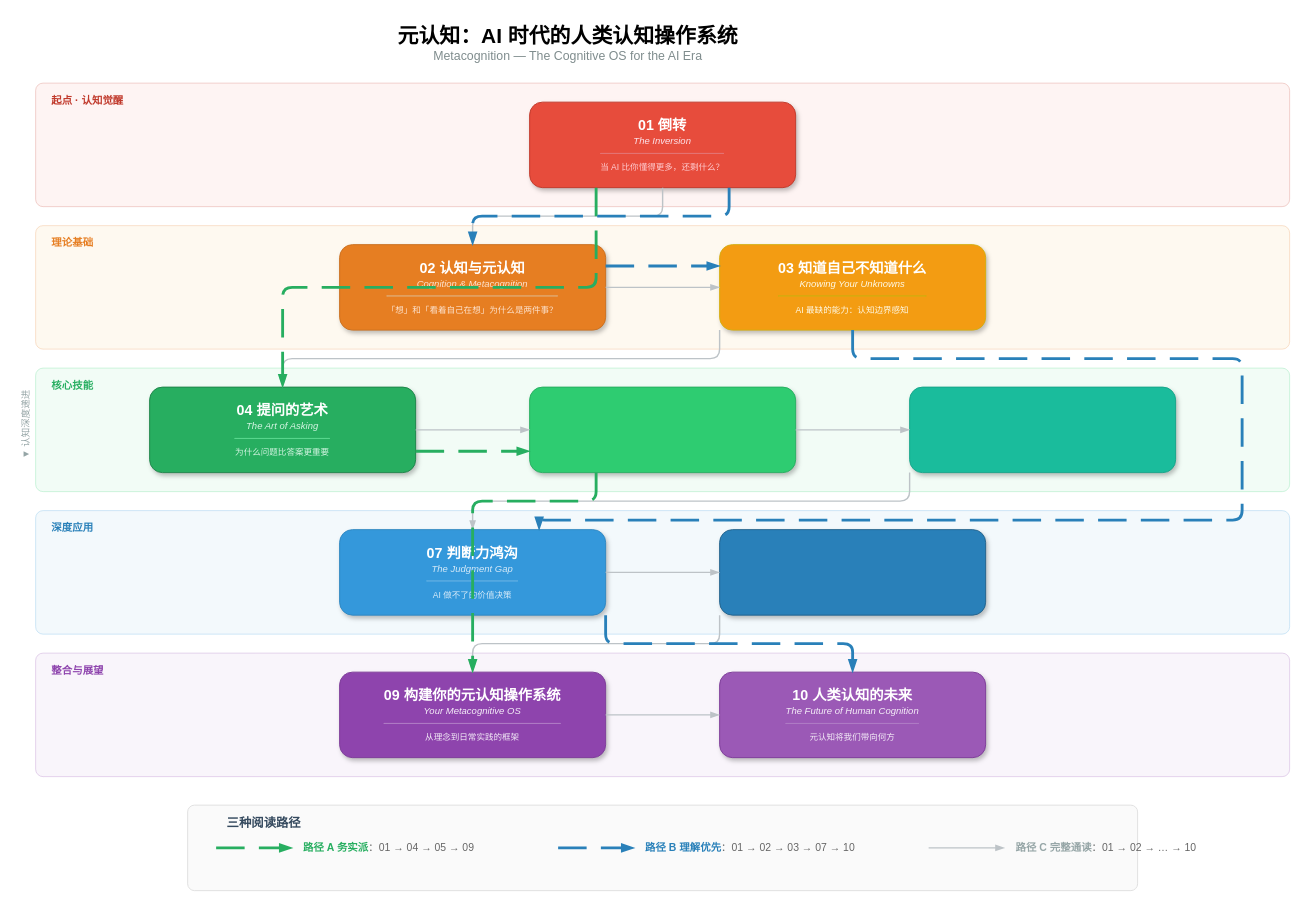
Image size: 1306x907. Some labels were removed from this diagram. The centre of each missing label's shape, as x and y in pixels:
"05 注意力即货币 Attention as Currency 认知过载时代的元认知调节" belongs at pixel 663 430.
"06 学会学习 Learning to Learn AI 时代的自我调节学习策略" belongs at pixel 1043 430.
"08 跨域连接 Cross-Domain Synthesis 谁来判断哪个连接真正有价值？" belongs at pixel 853 573.
